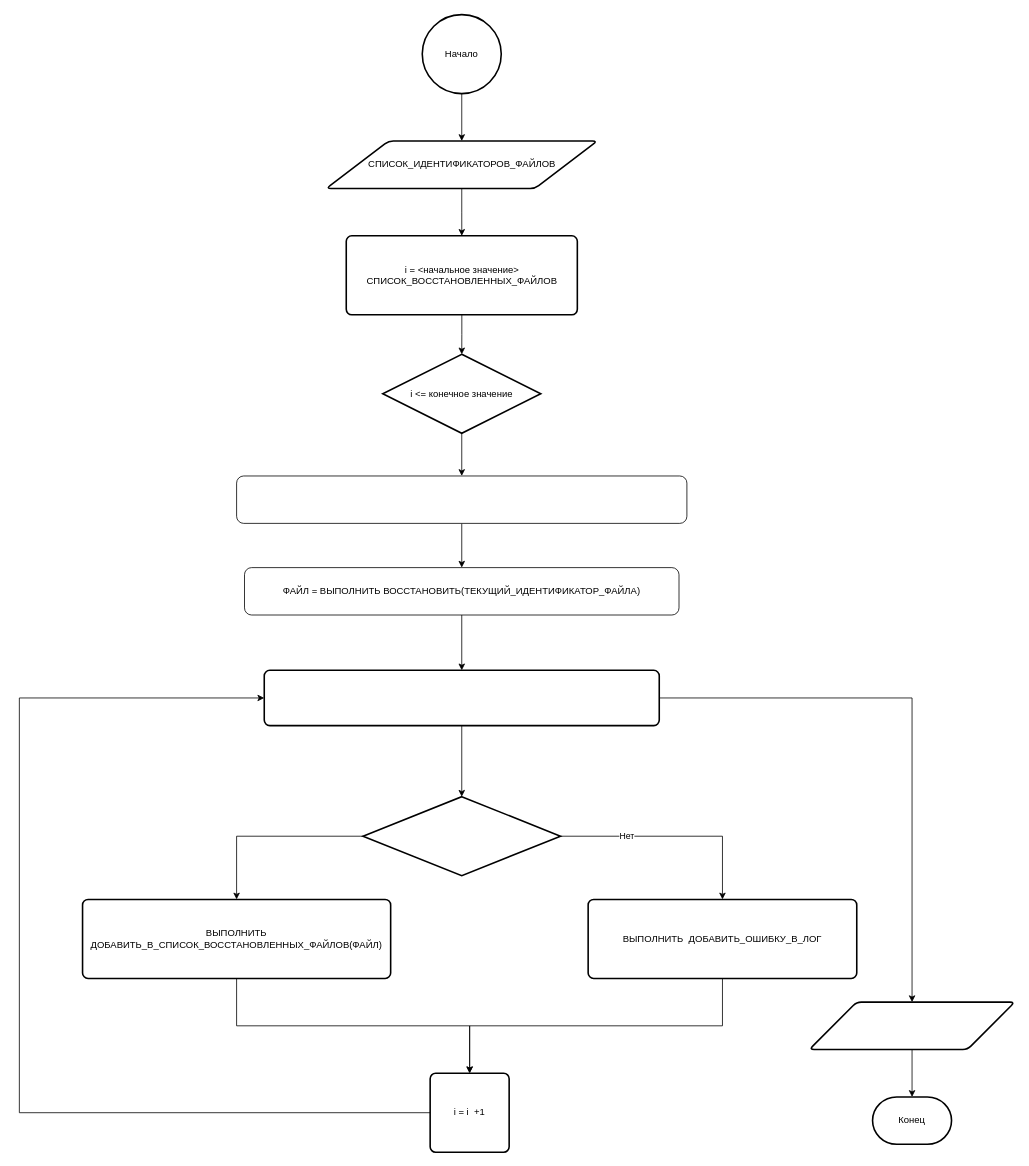
The diagram is 1029 pixels wide and 1166 high, and some of its shapes have lost their labels. Here are the shapes that lost their labels. From the top down, the box of each, then its label:
(236, 475, 687, 523): ТЕКУЩИЙ_ИДЕНТИФИКАТОР_ФАЙЛА = СПИСОК_ИДЕНТИФИКАТОРОВ_ФАЙЛОВ[i]
(263, 669, 660, 726): ЦЕЛОСТНОСТЬ_ФАЙЛА = ВЫПОЛНИТЬ ПРОВЕРИТЬ_ЦЕЛОСТНОСТЬ(ФАЙЛ)
(362, 796, 561, 876): ЦЕЛОСТНОСТЬ_ФАЙЛА == ПРАВДА?
(808, 1001, 1015, 1050): ВОССТАНОВЛЕННЫЕ_ФАЙЛЫ
